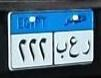2: (38, 38, 49, 61), (28, 39, 37, 63), (18, 38, 27, 62)
ain: (68, 36, 80, 59)
baa: (55, 42, 67, 60)
raa: (82, 39, 91, 57)
